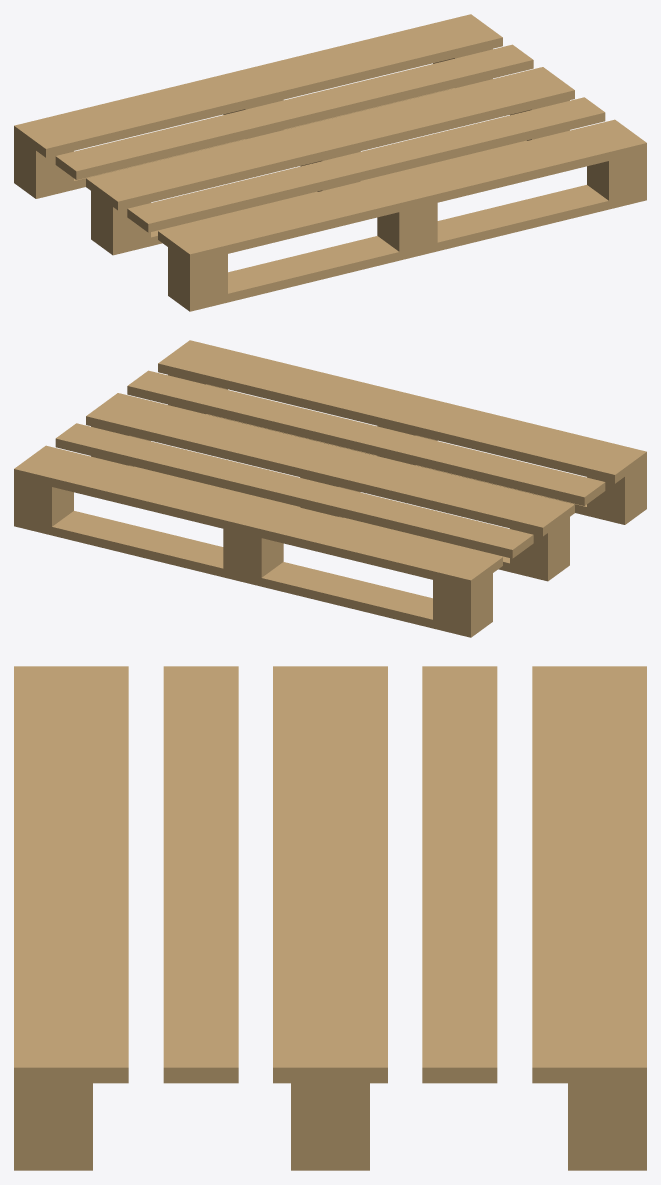
The model's file is pallet.glb.
The picture shows the model from 3 angles, top to bottom: view 1: azimuth 30°, elevation 25°; view 2: azimuth 150°, elevation 25°; view 3: azimuth 270°, elevation 25°; orthographic projection. The views are drawn at different scales.
Visible parts, largest first — view 1: Prop_Pallet_mesh; view 2: Prop_Pallet_mesh; view 3: Prop_Pallet_mesh.
Part boxes in pixels (bbox=[...]): Prop_Pallet_mesh: bbox=[14, 14, 646, 311]; Prop_Pallet_mesh: bbox=[14, 340, 646, 637]; Prop_Pallet_mesh: bbox=[14, 666, 646, 1170].
Bounding box in the file's own units: 1.2 × 0.144 × 0.8.
